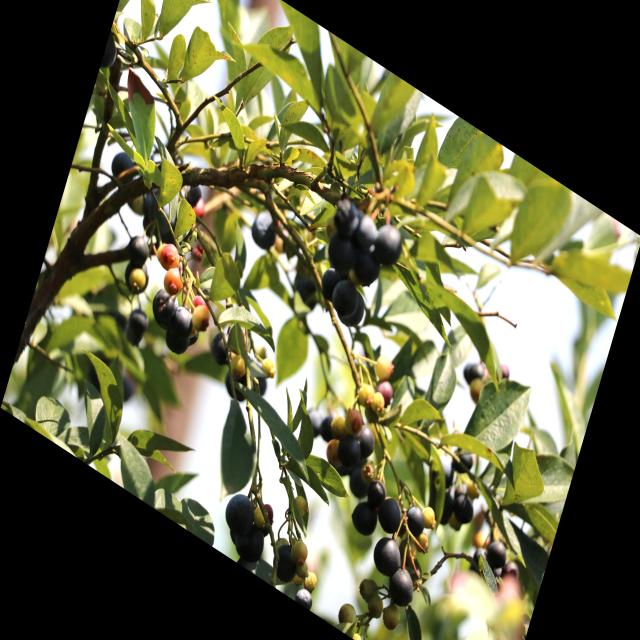blueberry: (138, 180, 182, 238), (222, 485, 260, 540), (231, 515, 269, 569), (369, 529, 406, 583), (147, 280, 183, 334), (346, 491, 382, 543), (371, 218, 405, 271), (221, 357, 257, 407), (269, 537, 304, 588), (323, 226, 358, 277), (348, 243, 382, 295), (386, 562, 420, 612), (248, 204, 281, 254), (330, 274, 362, 324), (375, 490, 408, 538), (206, 325, 239, 372), (330, 194, 362, 241), (161, 317, 193, 362), (338, 286, 368, 334), (108, 145, 140, 189), (121, 254, 152, 298), (334, 426, 364, 471), (344, 458, 373, 504), (352, 209, 381, 255), (316, 259, 343, 305), (352, 418, 380, 462), (482, 534, 510, 574), (168, 300, 196, 340), (401, 501, 428, 541), (450, 489, 477, 529), (125, 301, 152, 339), (433, 452, 458, 491), (126, 230, 152, 266), (434, 488, 456, 530), (364, 474, 388, 512), (450, 443, 474, 477), (182, 177, 204, 210), (501, 556, 522, 588), (469, 545, 491, 575), (294, 582, 316, 611), (468, 358, 486, 384)
blueberry-halfripe: (157, 237, 182, 275), (162, 262, 186, 298), (188, 300, 212, 334), (376, 375, 396, 405), (190, 289, 209, 316)
blueberry-unripe: (342, 403, 366, 438), (380, 600, 403, 634), (372, 351, 395, 384), (336, 599, 358, 631), (227, 350, 249, 381), (365, 590, 386, 622), (355, 379, 376, 410), (289, 536, 310, 567), (128, 264, 148, 294), (368, 388, 386, 416), (330, 411, 348, 437), (292, 491, 310, 517), (303, 568, 320, 595), (421, 504, 437, 529), (415, 530, 431, 553)
